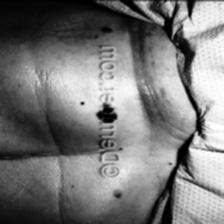Potentially Malignant Skin Tumors: (102, 26, 116, 32), (96, 108, 100, 120), (78, 100, 86, 106)
